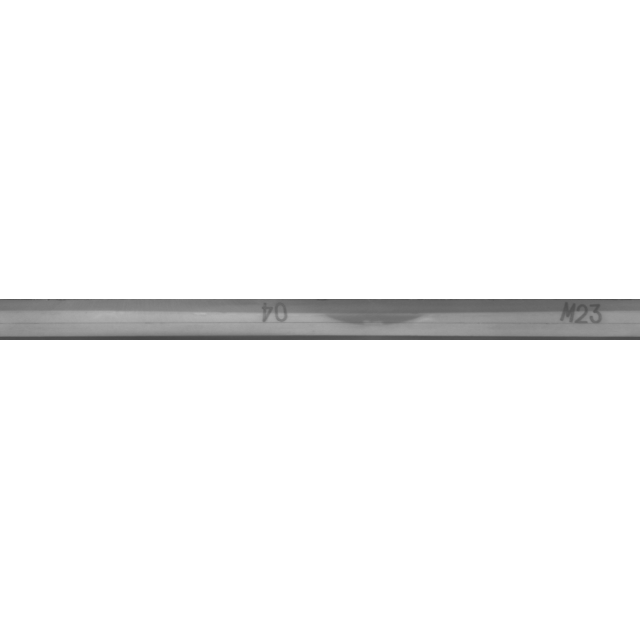mohao: (489, 270, 640, 370)
xuehao: (178, 270, 378, 370)
